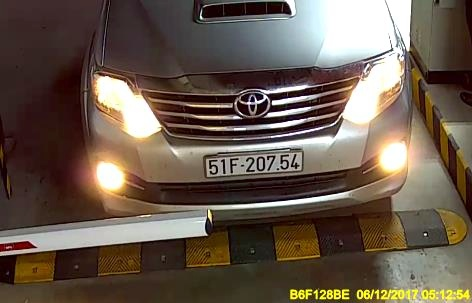plate: (204, 151, 301, 174)
